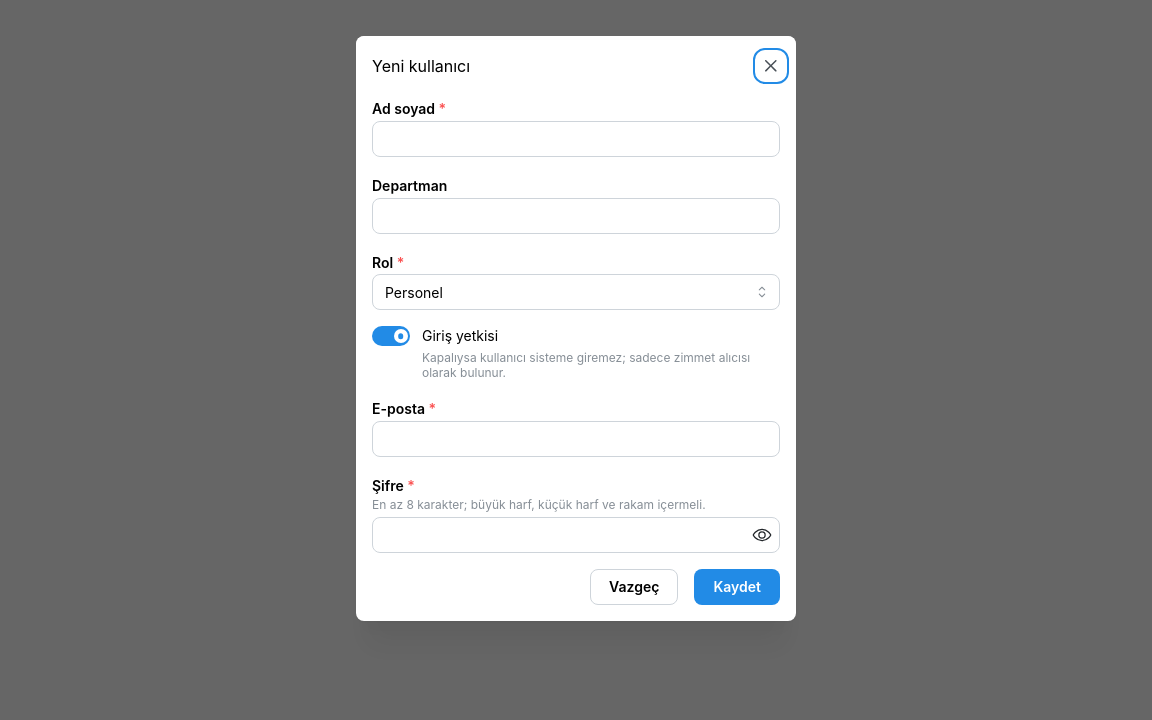
Test: UserFormModal › shows backend field errors on the form
The width and height of the screenshot is (1152, 720).
In the field labelled "Ad soyad *": (576, 139) [372,121,780,157], type "Ali Veli"
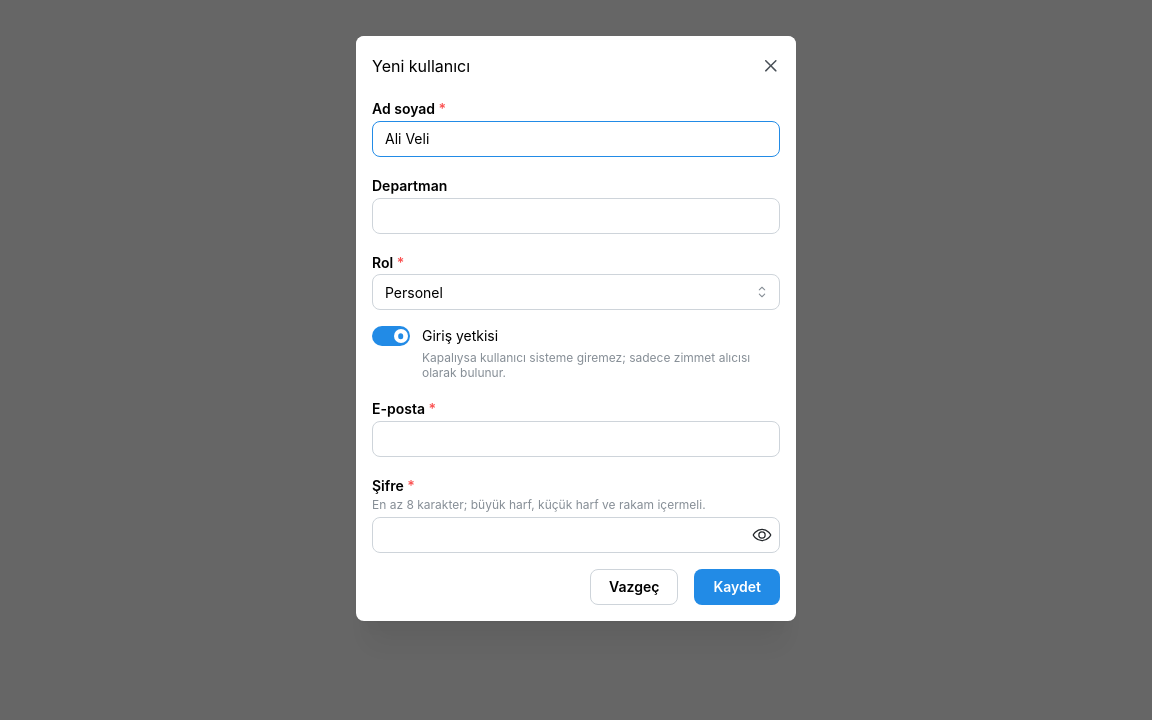
In the field labelled "E-posta *": (576, 439) [372,421,780,457], type "ali@example.com"
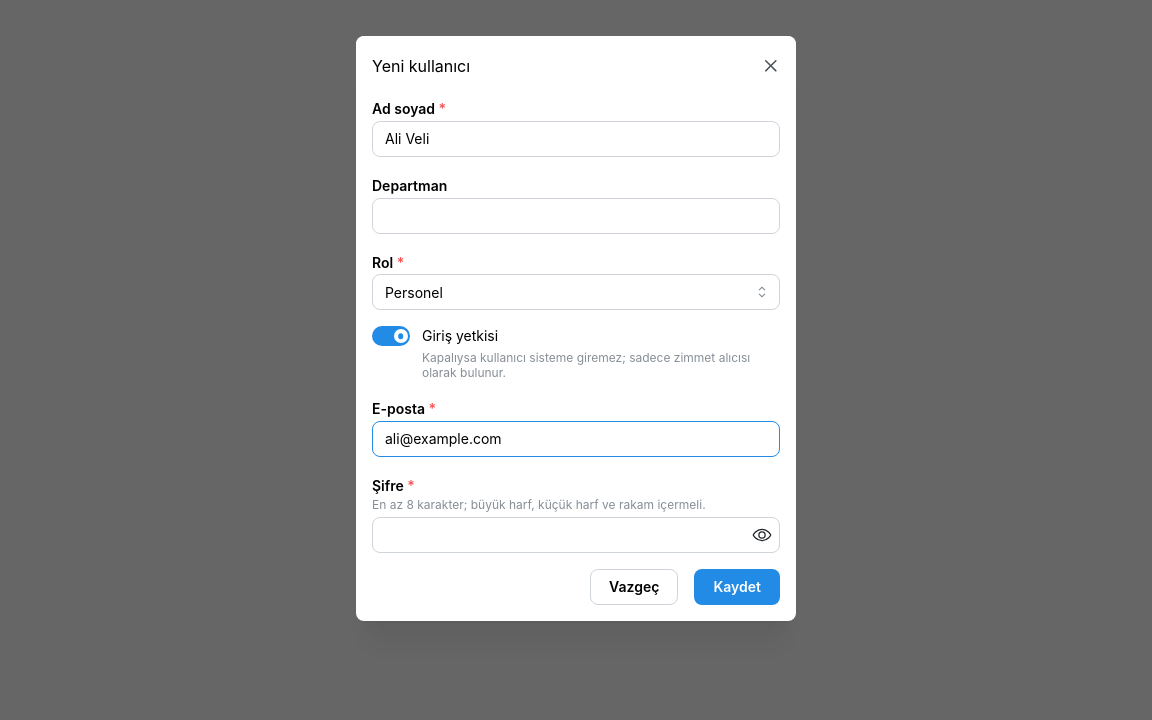
In the password field labelled "Şifre *": (576, 535) [373,518,779,552], type "Sifre1234"
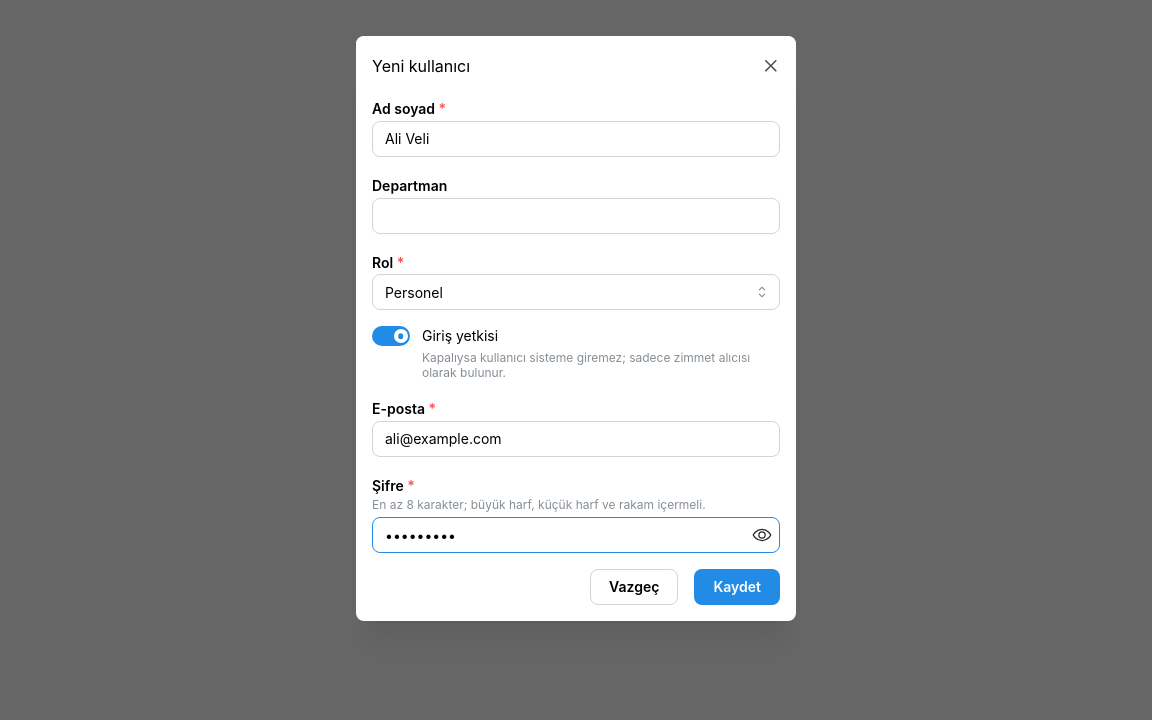
Click the button "Kaydet": click(737, 587) [694,569,780,605]
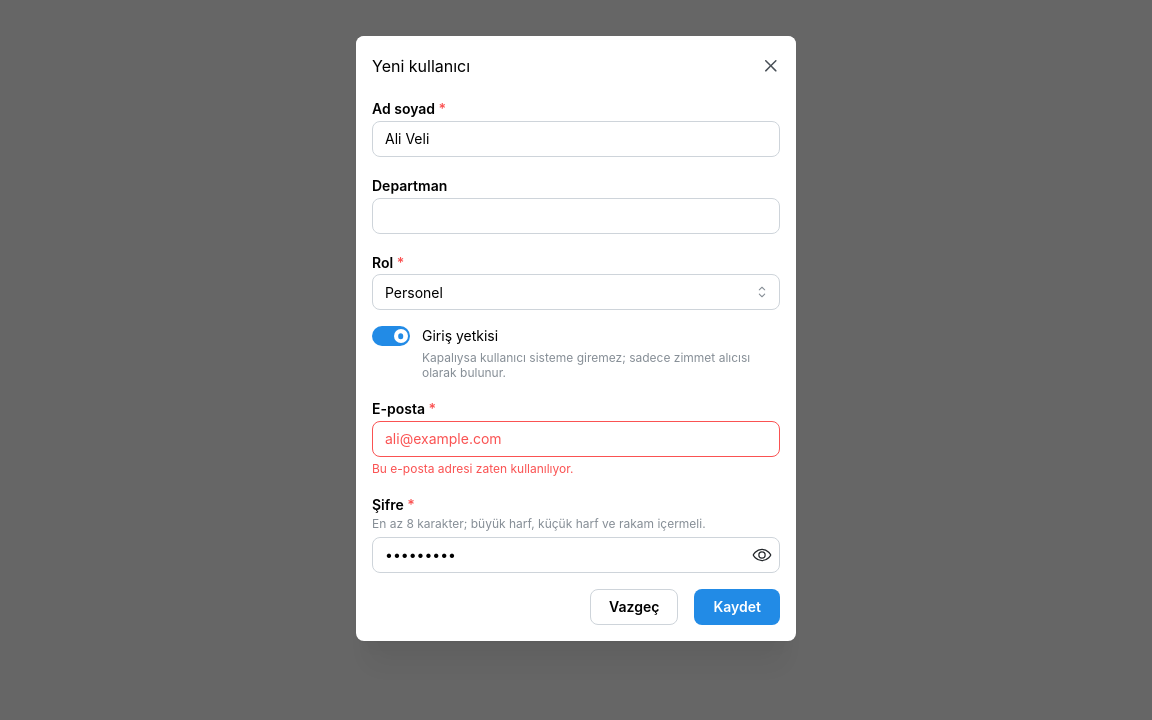
Expected: the text "Bu e-posta adresi zaten kullanılıyor." is shown, [372,461,573,476]
